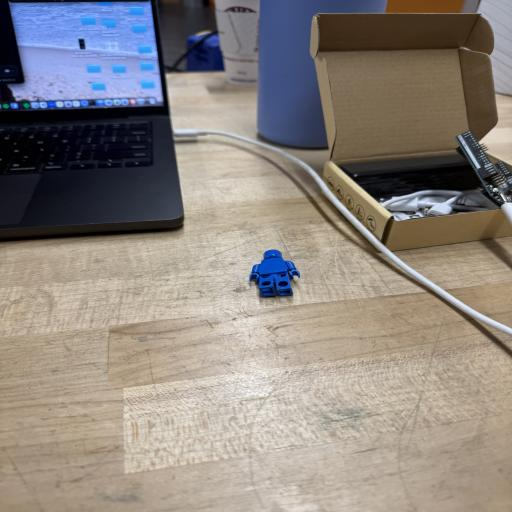blue-minifig: (250, 250, 300, 297)
